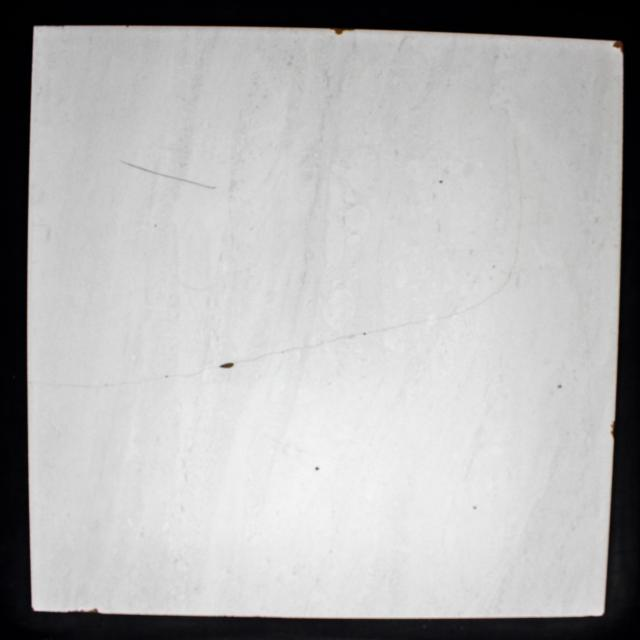edge-chipping: (329, 28, 355, 35), (68, 609, 98, 614), (612, 41, 623, 53), (611, 422, 615, 439)
hole: (220, 363, 234, 369), (315, 466, 319, 471), (558, 384, 562, 389), (440, 180, 443, 184)
line: (234, 336, 347, 364), (437, 278, 509, 319), (119, 160, 216, 189), (349, 319, 435, 337), (506, 110, 522, 189), (510, 190, 522, 277), (151, 368, 213, 380), (57, 380, 150, 387)
